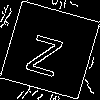Z: (24, 25, 67, 78)
